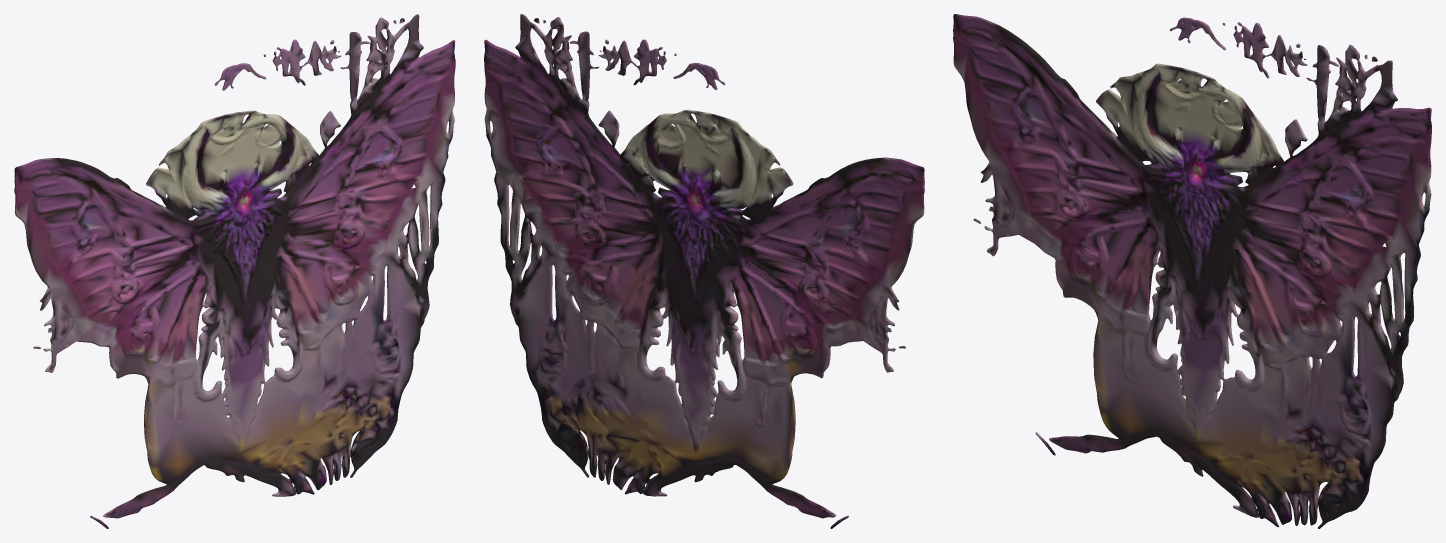
The model's file is ghoul.glb.
3 views of the same model, side by side, from view 1: azimuth 30°, elevation 25°; view 2: azimuth 150°, elevation 25°; view 3: azimuth 330°, elevation 25° (orthographic). The views are drawn at different scales.
Visible parts, largest first — view 1: world; view 2: world; view 3: world.
Boxes of the visible parts, bbox=[...] form: world: bbox=[14, 14, 455, 528]; world: bbox=[484, 14, 924, 528]; world: bbox=[953, 14, 1431, 528].
Size of the model in its own units: 1 by 1 by 0.0435.
